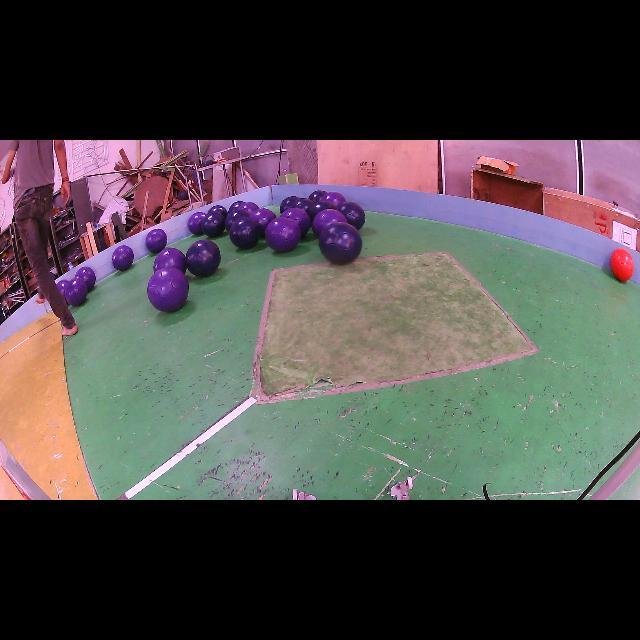B: (319, 222, 362, 264), (185, 240, 221, 277), (229, 216, 260, 249), (338, 201, 365, 230), (201, 211, 225, 238), (308, 201, 335, 222), (225, 210, 249, 232), (280, 196, 299, 214), (291, 198, 314, 212), (208, 205, 228, 218), (309, 190, 326, 201), (229, 201, 244, 213)
P: (148, 268, 189, 312), (265, 216, 301, 252), (312, 209, 348, 238), (281, 208, 310, 237), (154, 248, 186, 274), (250, 209, 276, 236), (64, 278, 88, 306), (112, 245, 134, 271), (145, 229, 168, 252), (75, 266, 96, 291), (320, 191, 346, 208), (188, 211, 206, 235), (239, 202, 259, 214), (56, 280, 69, 296)
R: (611, 248, 634, 281)
